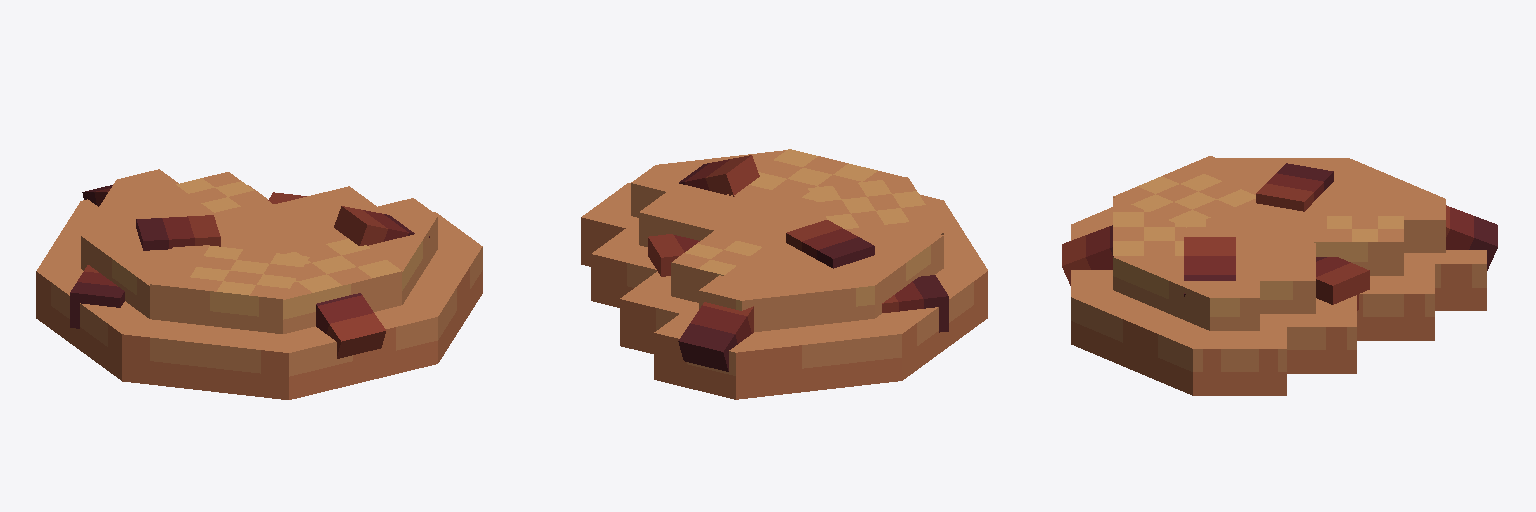
3 views of the same model, side by side, from view 1: azimuth 30°, elevation 25°; view 2: azimuth 150°, elevation 25°; view 3: azimuth 270°, elevation 25° (orthographic).
Parts seen in each view (by area): view 1: Element; view 2: Element; view 3: Element.
Part boxes in pixels (bbox=[...]): Element: bbox=[36, 169, 482, 399]; Element: bbox=[581, 149, 987, 399]; Element: bbox=[1062, 156, 1497, 395].
Size of the model in its own units: 8.14 by 2.14 by 8.4.
1 materials, 1 textured.